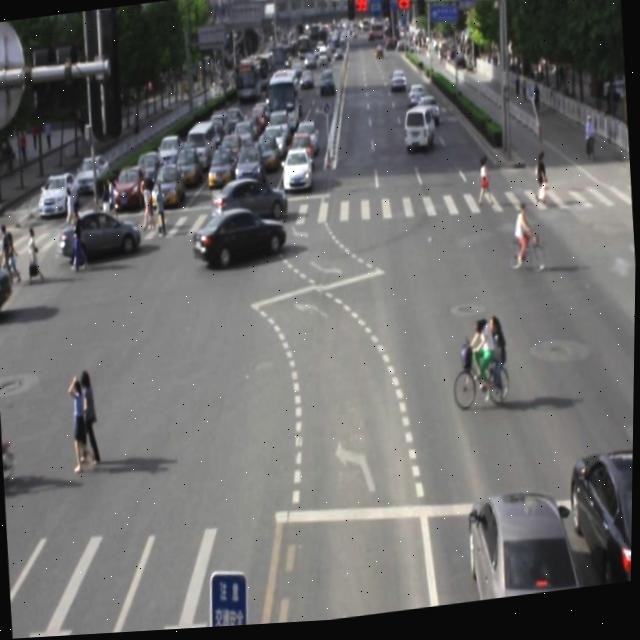car: (466, 486, 583, 607), (566, 453, 634, 595), (191, 204, 287, 273), (57, 205, 142, 263), (210, 175, 288, 228)
